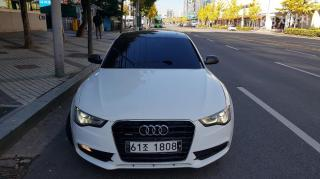0: (165, 142, 171, 151)
1: (154, 142, 159, 152), (137, 143, 142, 152)
6: (131, 142, 137, 152)
8: (159, 141, 165, 152), (171, 142, 177, 150)
조: (141, 142, 150, 152)
